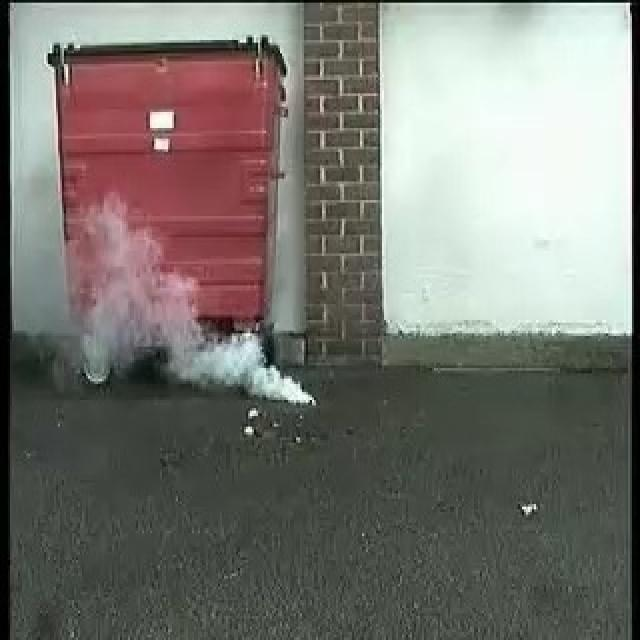Smoke: (79, 205, 312, 412)
